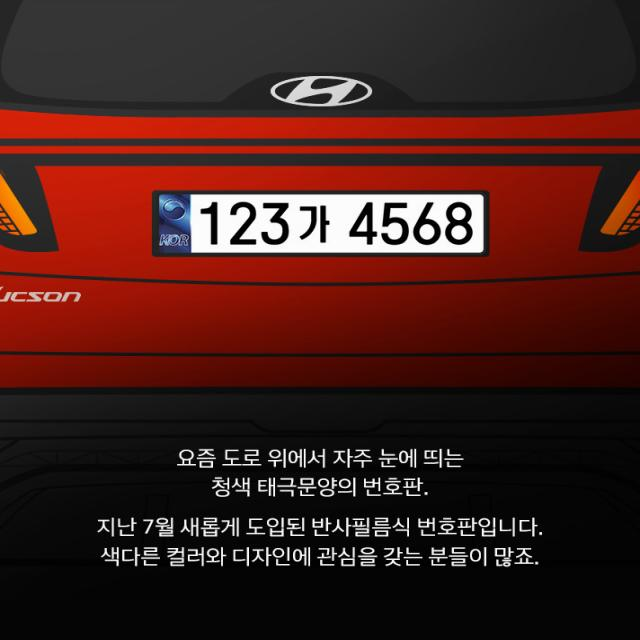illegal_plate: (148, 190, 491, 266)
